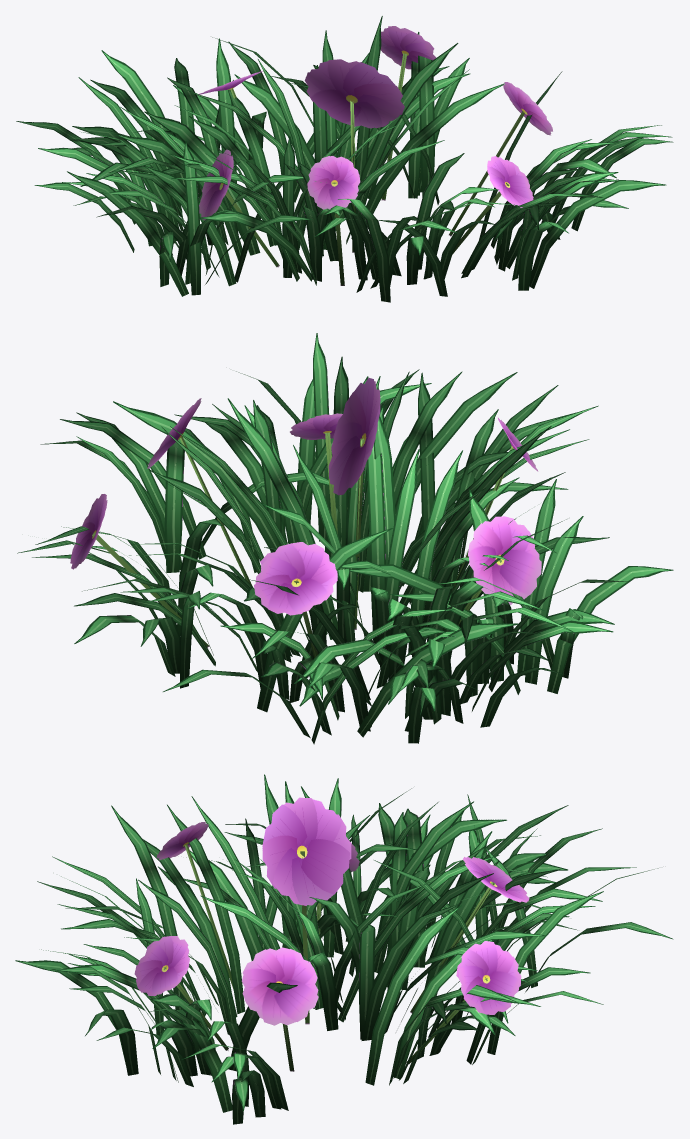
The model's file is mm7_deco_flower01.glb.
The picture shows the model from 3 angles, top to bottom: view 1: azimuth 30°, elevation 25°; view 2: azimuth 150°, elevation 25°; view 3: azimuth 270°, elevation 25°; orthographic projection. The views are drawn at different scales.
Visible parts, largest first — view 1: Plant; view 2: Plant; view 3: Plant.
Part boxes in pixels (x1,y1,x2,y2): Plant: (16, 16, 673, 302); Plant: (17, 333, 673, 744); Plant: (15, 774, 673, 1124).
Size of the model in its own units: 3.07 by 1.11 by 3.
Materials: 1 (1 with a texture image).
